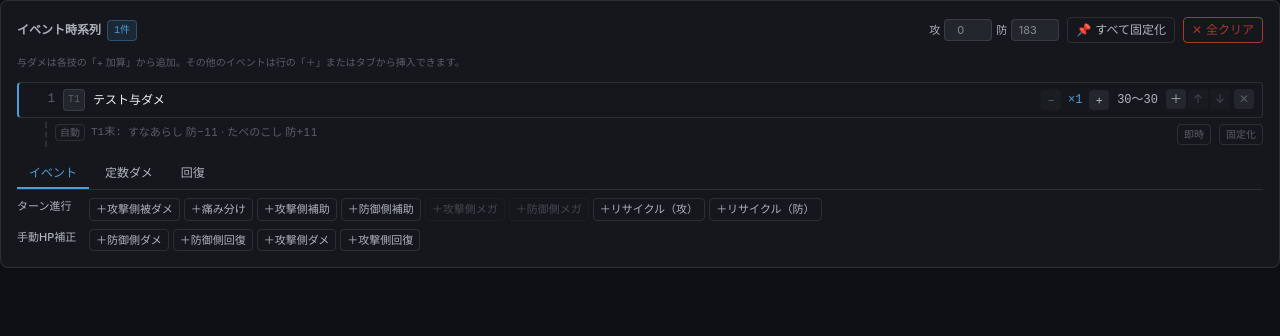
Test: DamageProgressionPanel のゴースト行 › ヘッダーの「すべて固定化」は常時効果があるときだけ出て、全件を固定化する
Click the button "📌 すべて固定化". click: (1121, 30)
box: left=1067, top=17, right=1175, bottom=43
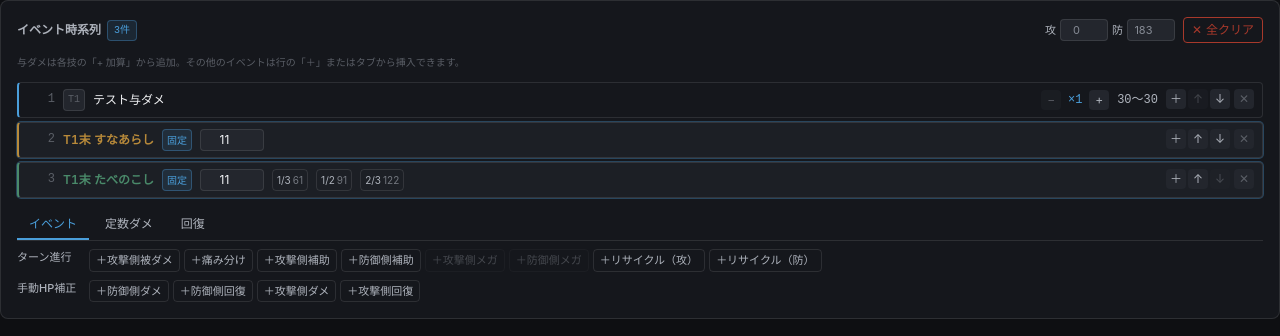
Now the button "すべて固定化" is gone
